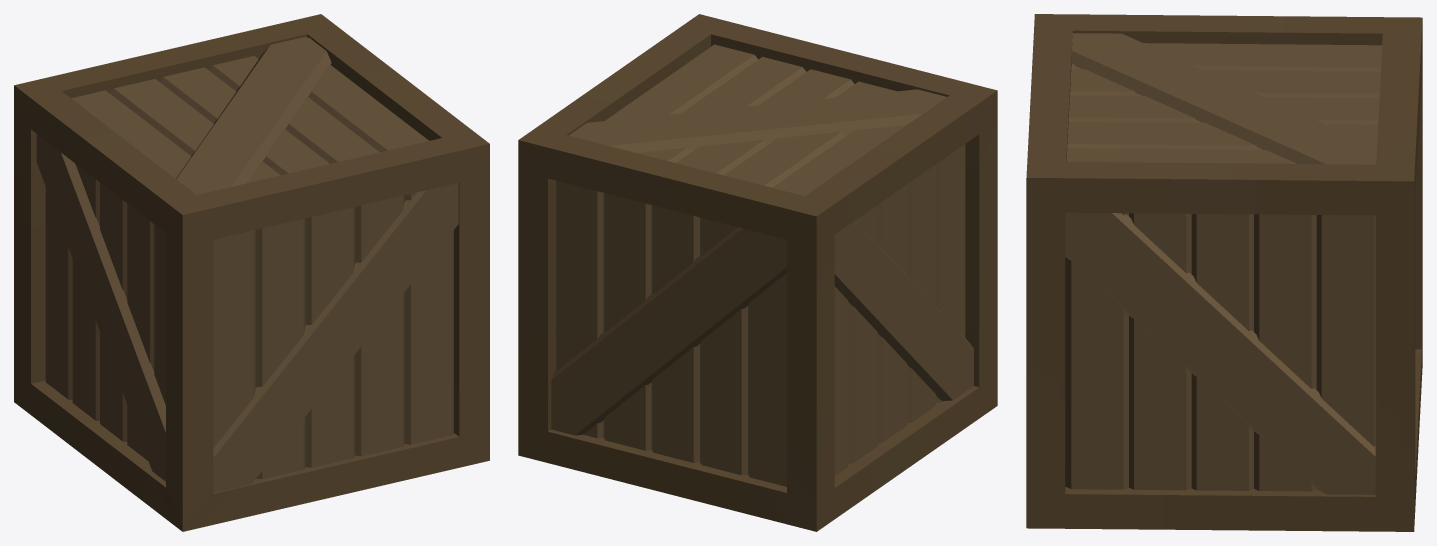
The model's file is Dock_Big_Nails_CylinderFBXASC046503.fbx.
3 views of the same model, side by side, from view 1: azimuth 30°, elevation 25°; view 2: azimuth 150°, elevation 25°; view 3: azimuth 270°, elevation 25° (orthographic). The views are drawn at different scales.
Visible parts, largest first — view 1: Dock_Big_Nails_Cylinder.503; view 2: Dock_Big_Nails_Cylinder.503; view 3: Dock_Big_Nails_Cylinder.503.
Part boxes in pixels (<box>): Dock_Big_Nails_Cylinder.503: <box>14,14,489,531</box>; Dock_Big_Nails_Cylinder.503: <box>518,14,997,531</box>; Dock_Big_Nails_Cylinder.503: <box>1026,14,1422,531</box>.
Size of the model in its own units: 15.63 by 15.27 by 15.63.
